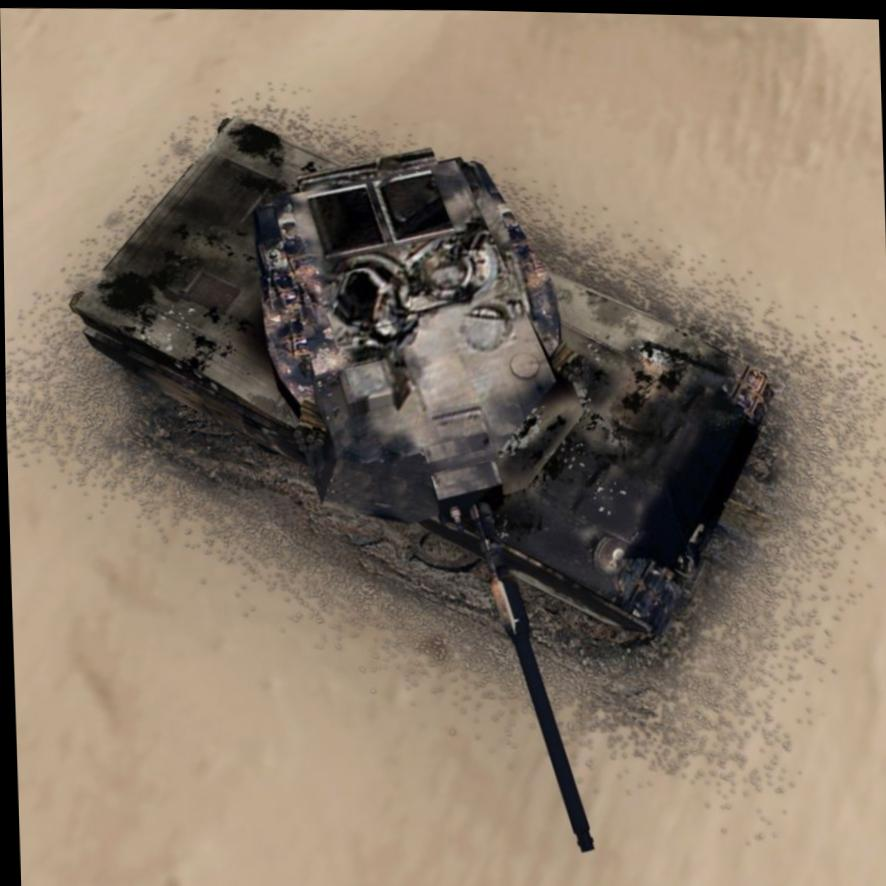tank: (44, 94, 811, 880)
